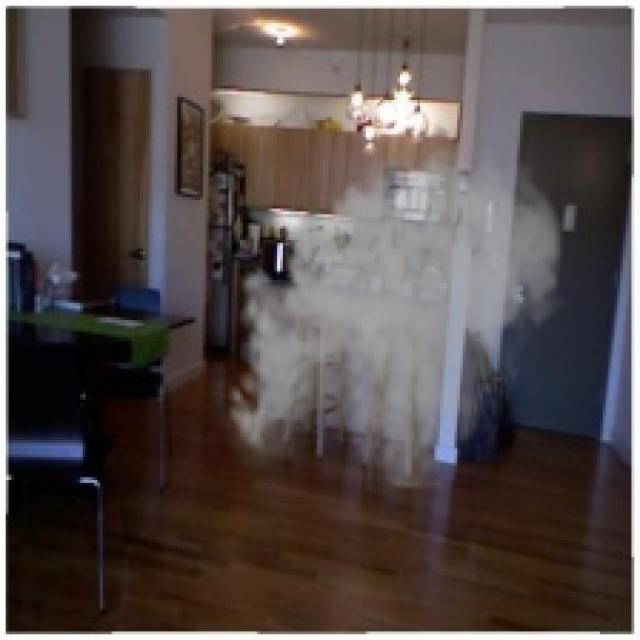Smoke: (217, 134, 572, 492)
